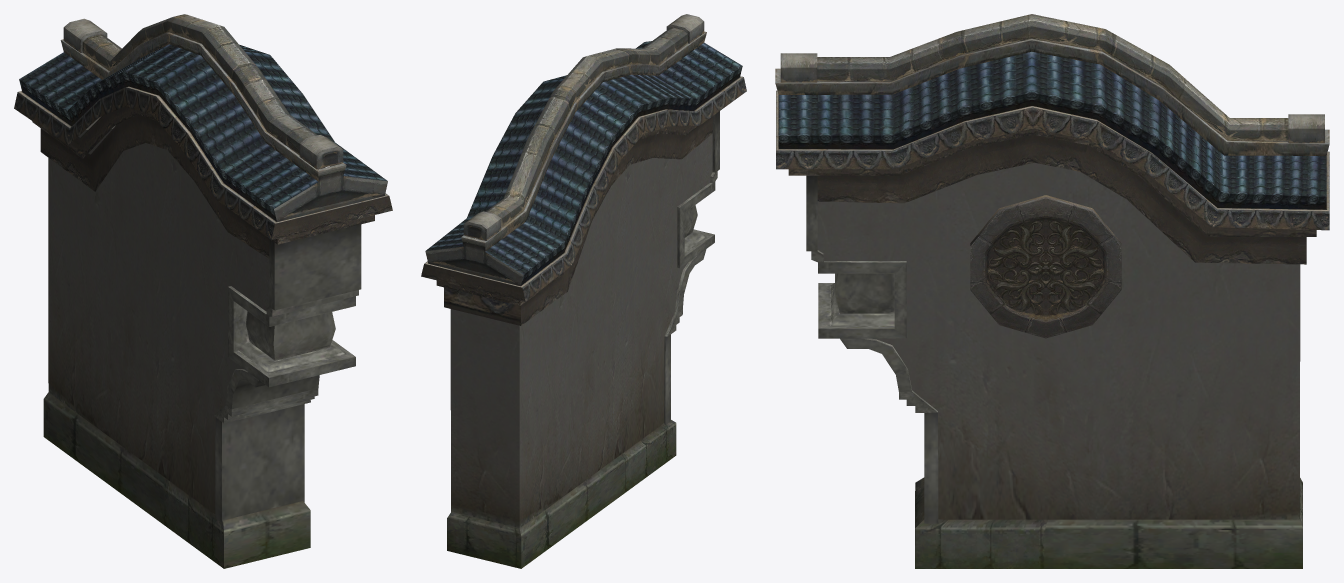
File: jz_weiqiang01_53_55_3257out.fbx
3 renders of one model, left to right at view 1: azimuth 30°, elevation 25°; view 2: azimuth 150°, elevation 25°; view 3: azimuth 270°, elevation 25°, orthographic. The views are drawn at different scales.
Parts seen in each view (by area): view 1: jz_weiqiang01; view 2: jz_weiqiang01; view 3: jz_weiqiang01.
Part boxes in pixels (<box>): jz_weiqiang01: <box>14,14,392,568</box>; jz_weiqiang01: <box>421,14,746,568</box>; jz_weiqiang01: <box>775,14,1329,568</box>.
Bounding box in the file's own units: 1.44 × 5.59 × 5.31.
